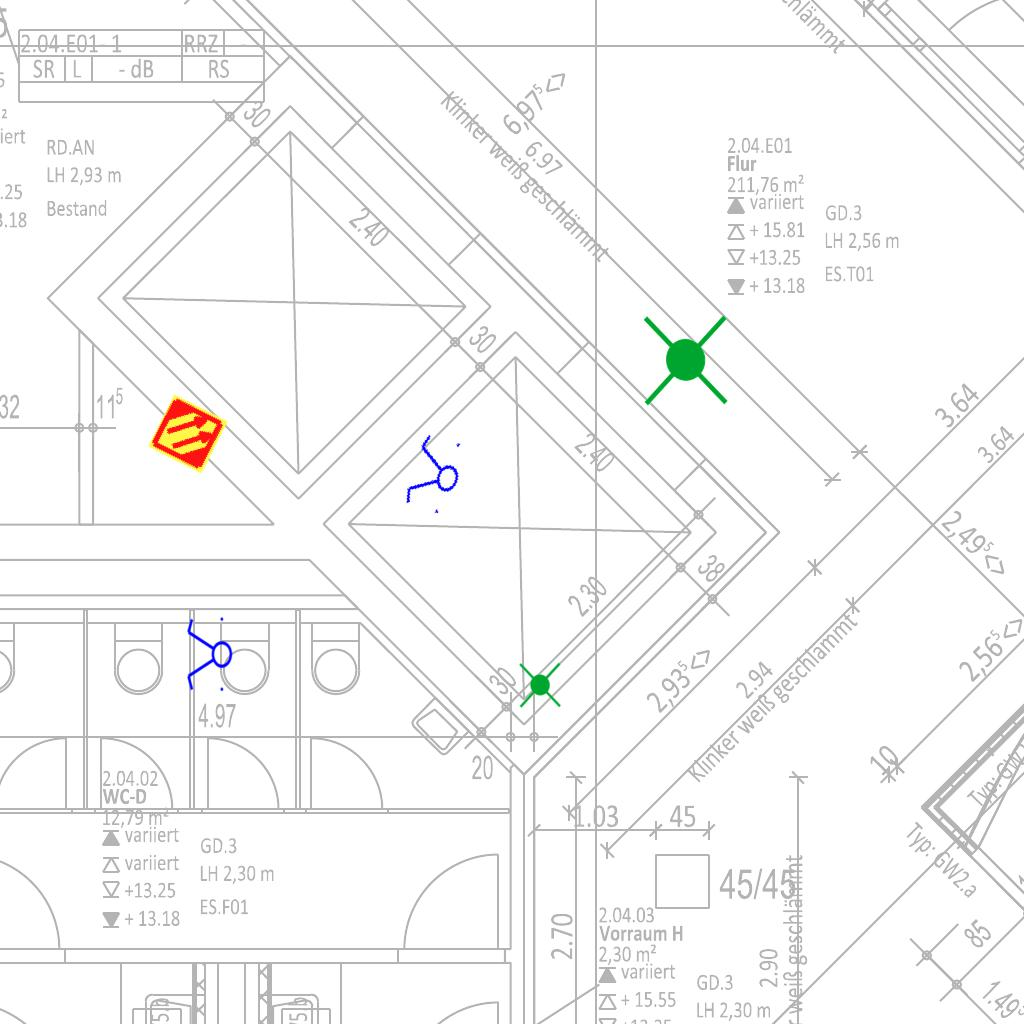ASR_Ansaugrauchmelder: (146, 392, 230, 476)
Notlichtbaustein_in_Allgemeinbeleuchtug_engebaut_Einbau_(1UG_und_2UG_Aufbauvaria: (633, 310, 736, 410), (514, 660, 565, 710)
Serienschalter: (399, 427, 471, 523), (185, 613, 233, 697)
